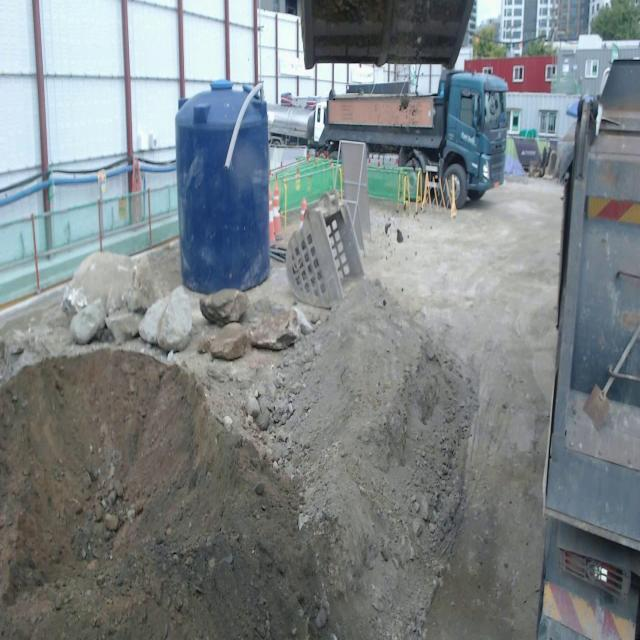red-sand: (0, 349, 316, 639)
rocks: (61, 252, 192, 350)
stone: (70, 252, 165, 312), (139, 286, 192, 350), (247, 301, 312, 349), (200, 289, 248, 325), (207, 322, 250, 360), (70, 299, 106, 344), (105, 310, 143, 341)
white-sand: (368, 178, 562, 639), (294, 284, 474, 639)
